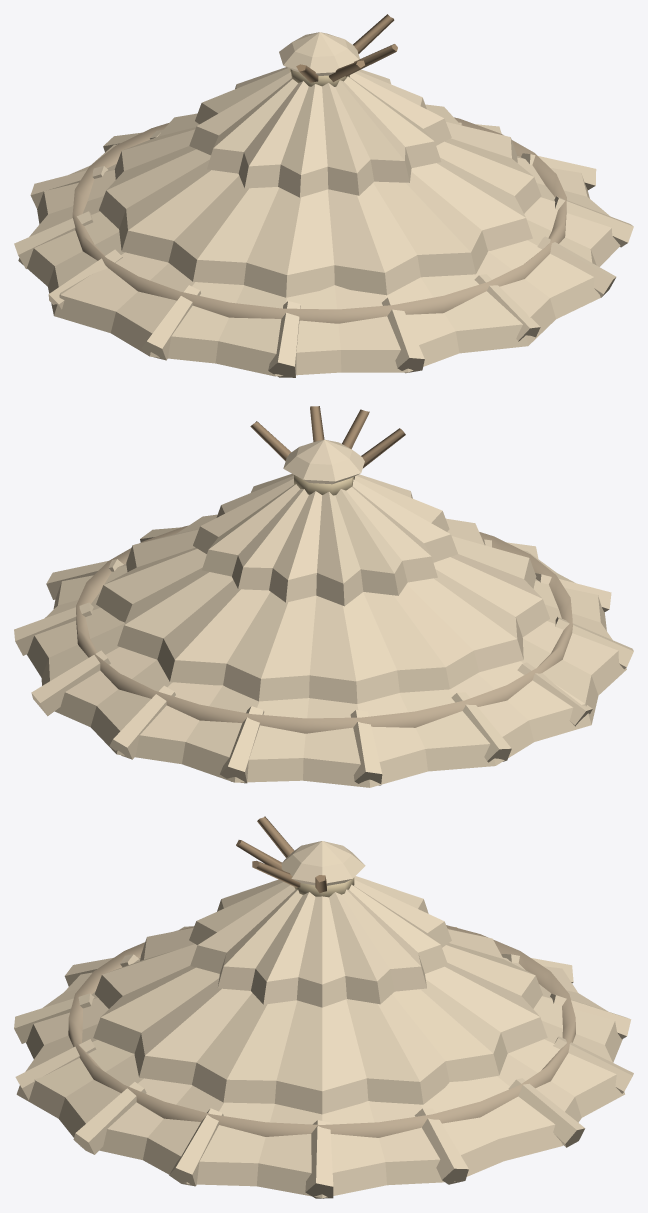
Rendered from building.coneroof.glb.
3 renders of one model, top to bottom at view 1: azimuth 30°, elevation 25°; view 2: azimuth 150°, elevation 25°; view 3: azimuth 270°, elevation 25°, orthographic. The views are drawn at different scales.
Parts seen in each view (by area): view 1: Paint, PaintDark, Wood; view 2: Paint, PaintDark, Wood, Rope; view 3: Paint, PaintDark, Wood.
Part boxes in pixels (box(x1,y1,x2,y2)): Paint: box(14, 32, 633, 377); PaintDark: box(72, 117, 566, 323); Wood: box(296, 14, 397, 82); Paint: box(14, 439, 633, 787); PaintDark: box(76, 525, 572, 733); Wood: box(250, 406, 405, 468); Rope: box(294, 475, 354, 495); Paint: box(14, 841, 633, 1198); PaintDark: box(68, 925, 575, 1137); Wood: box(236, 816, 326, 893).
Size of the model in its own units: 2.54 by 1 by 2.48.
